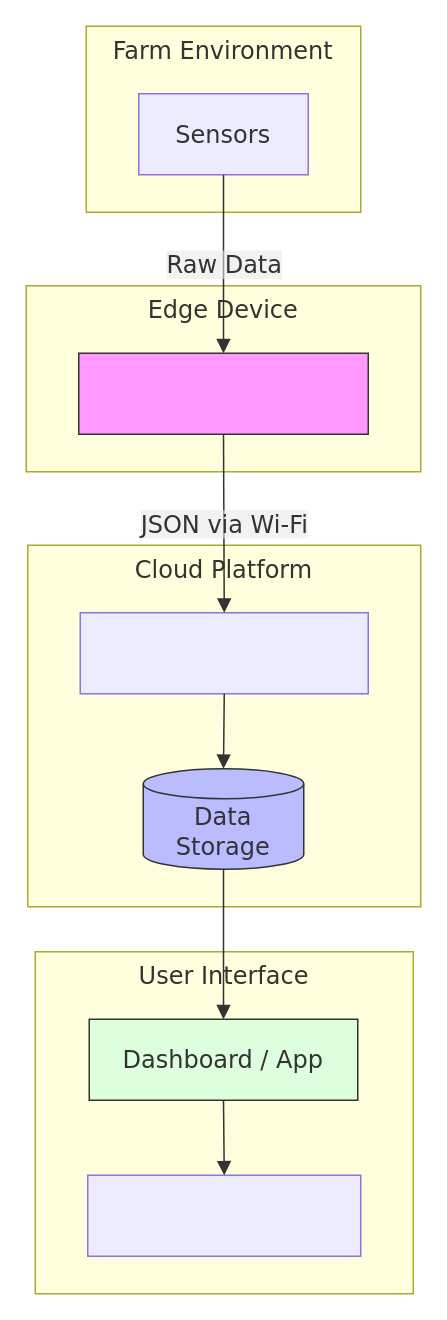
Image size: 447x1320. Some labels were removed from this diagram. The centre of each missing label's shape, as x and y in pixels:
"Cloud API / Broker" belongs at point 223,652.
"ESP32 Edge Device" belongs at point 222,393.
"Farmer Decisions" belongs at point 223,1215.
